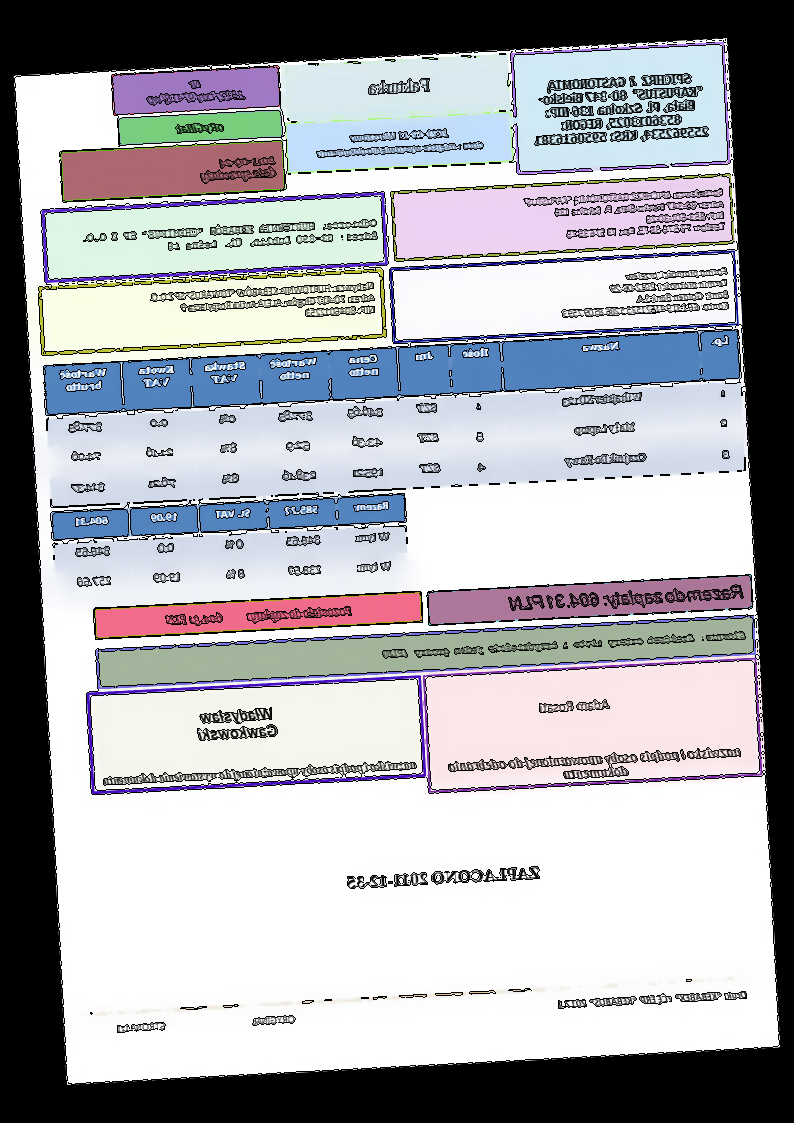Table: (43, 329, 747, 509), (51, 493, 410, 603)
TextBox: (529, 71, 712, 147), (80, 215, 379, 258), (447, 744, 745, 786), (379, 628, 748, 661), (521, 186, 727, 243), (147, 280, 378, 327), (101, 757, 419, 790), (559, 265, 731, 320), (504, 582, 748, 616), (314, 125, 488, 161), (343, 863, 543, 892), (163, 603, 356, 629), (555, 988, 750, 1011), (145, 74, 250, 109), (195, 703, 279, 743), (197, 155, 279, 186), (366, 76, 433, 98), (538, 698, 613, 715), (174, 119, 228, 137), (116, 1021, 168, 1035), (251, 1013, 298, 1027)
